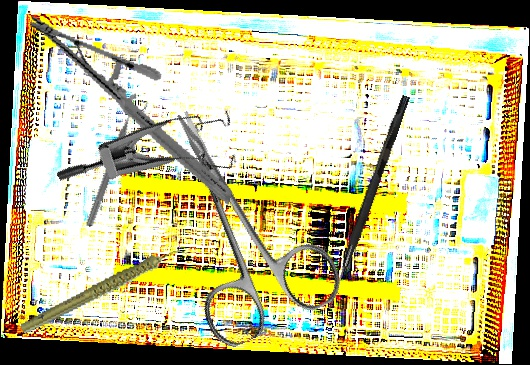Fixation Ring: (81, 91, 152, 232)
Handpiece: (11, 245, 197, 337)
Hook Surgical: (326, 93, 410, 312)
Iris Scissors: (122, 81, 350, 354)
Needle Holder: (0, 12, 262, 206)
Speculum: (55, 80, 253, 247)
